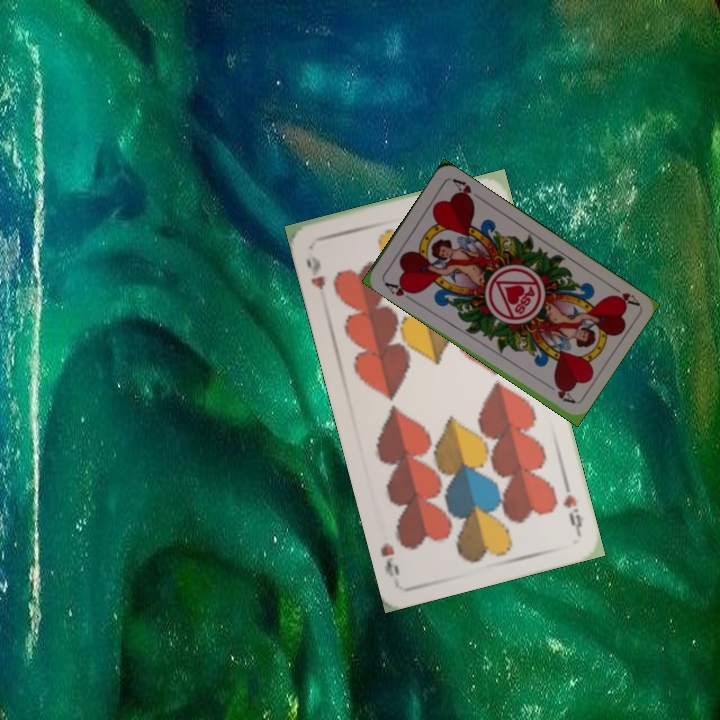H9: (558, 490, 586, 536), (302, 252, 328, 293)
HA: (379, 276, 419, 304), (604, 280, 641, 308)
